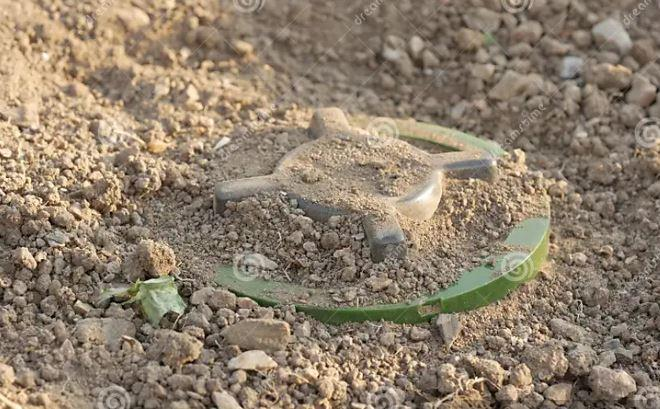pmn: (130, 103, 556, 331)
